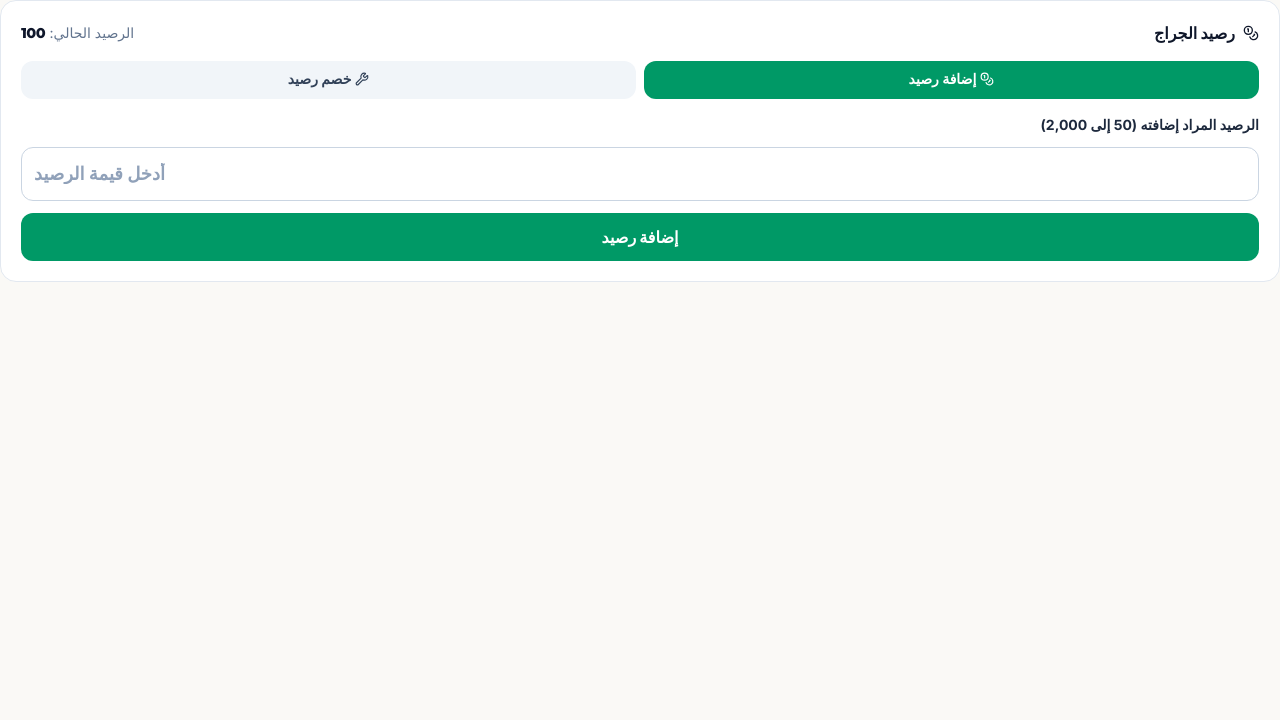
Test case: AdminCreditGrantPanel › applies a negative deduction in correction mode with auto-generated reason
Click the tab "خصم رصيد" at (328, 80), box [21, 61, 636, 99]
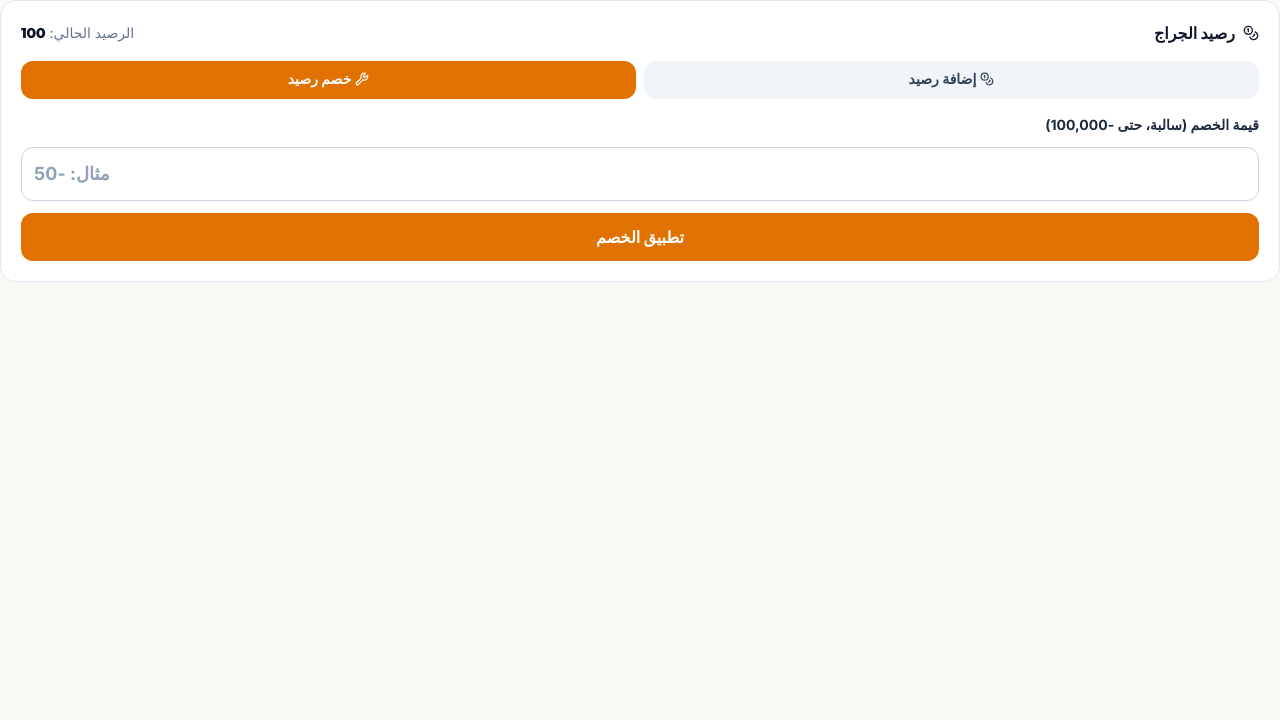
Type "-50" into the field labelled "قيمة الخصم (سالبة، حتى -100,000)" at (640, 174), box [21, 147, 1259, 201]
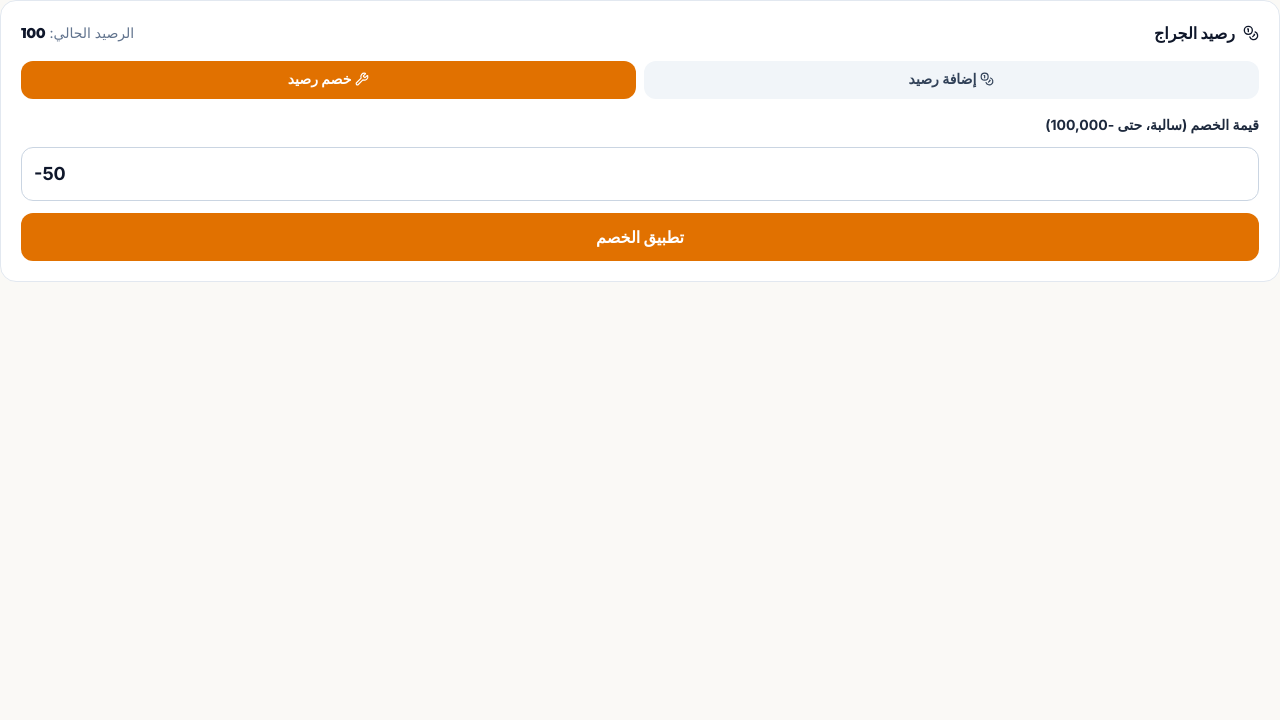
Click the button "تطبيق الخصم" at (640, 237), box [21, 213, 1259, 261]
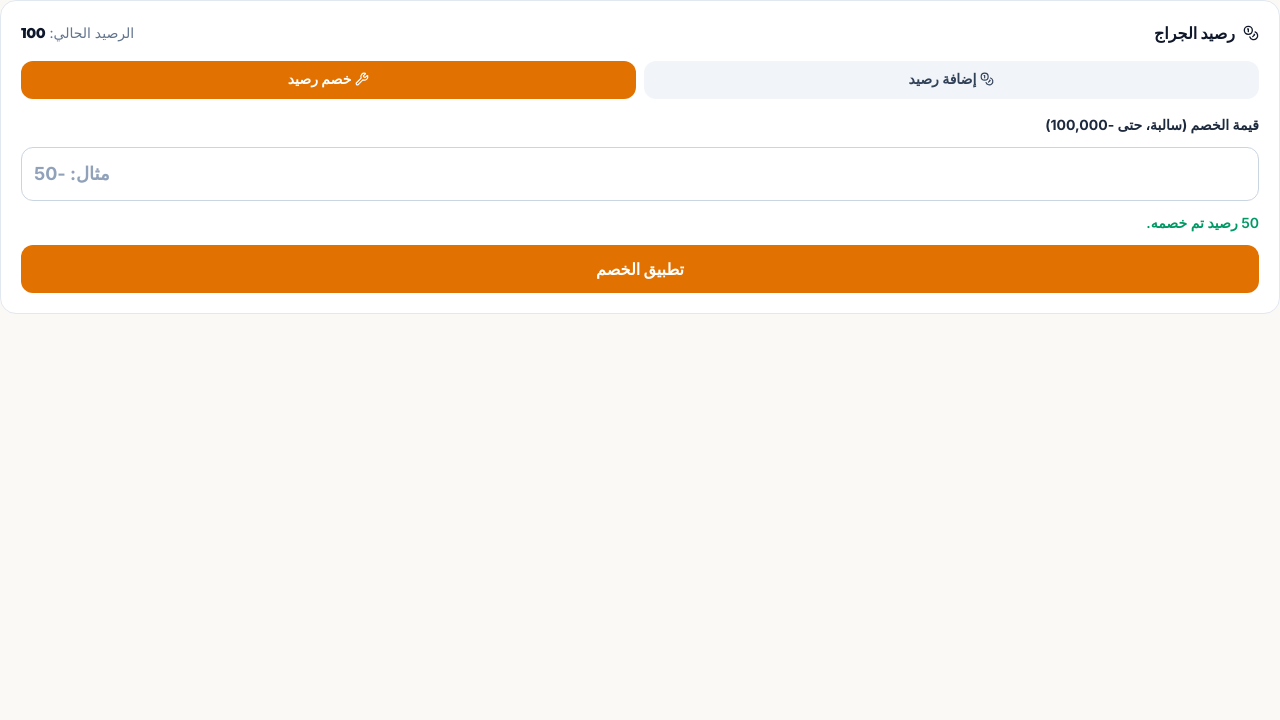
Expected: the message shows "50 رصيد تم خصمه", [1146, 214, 1259, 231]
